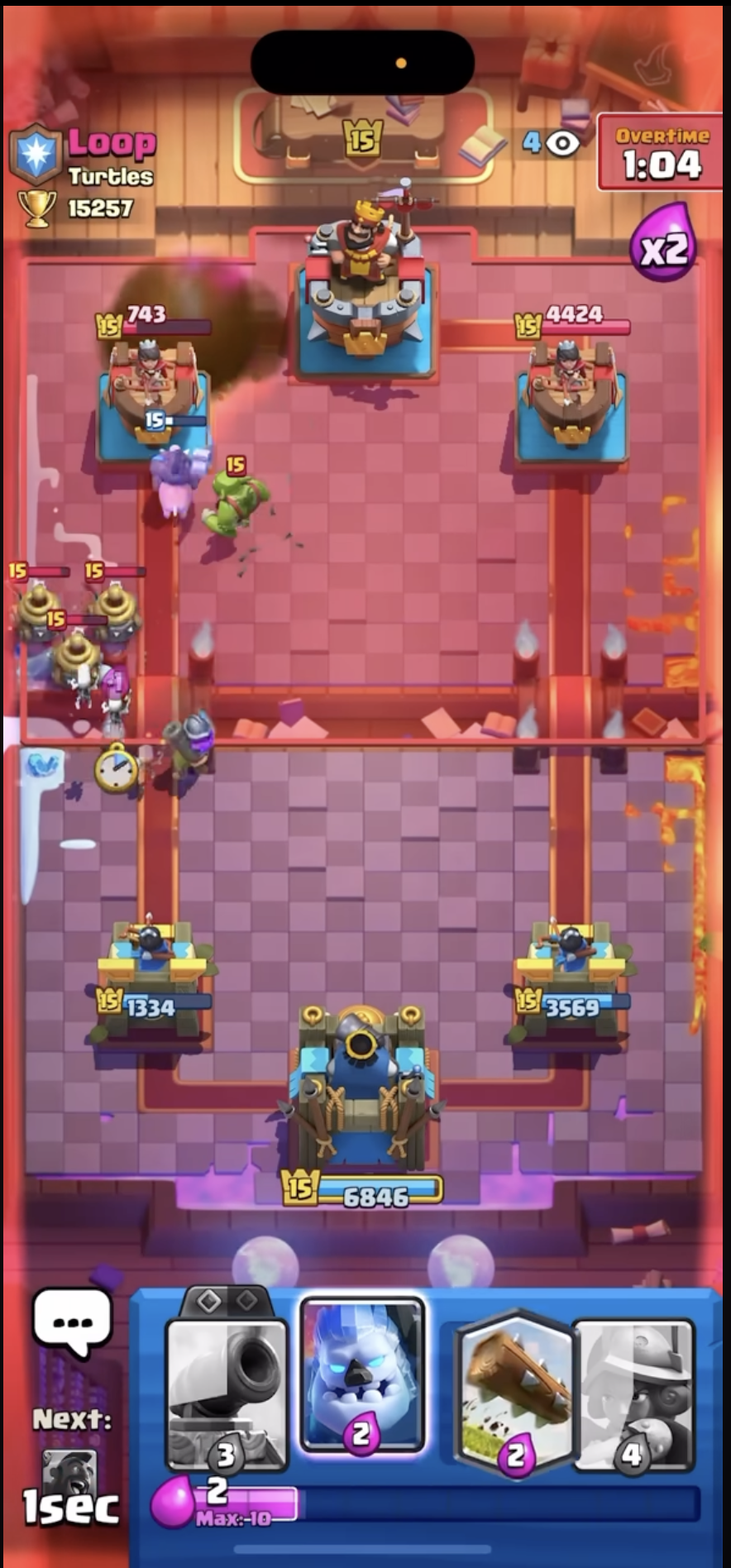goblin-cage: (205, 447, 273, 540)
zappie: (79, 549, 156, 634), (8, 555, 79, 636), (41, 611, 113, 684)
